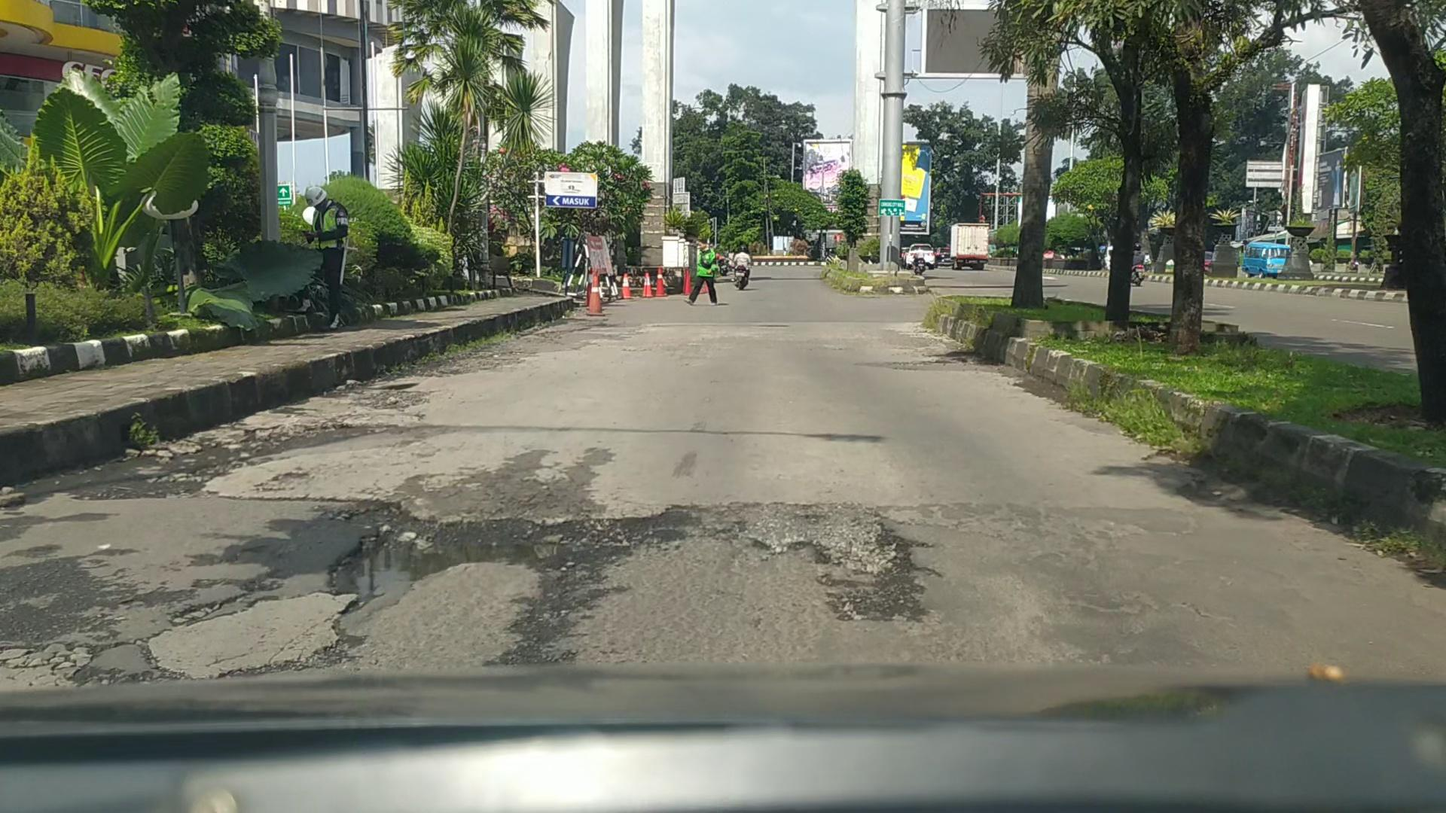pothole: (322, 497, 693, 618), (5, 423, 391, 509), (735, 502, 919, 620), (215, 616, 368, 677), (170, 593, 257, 626), (360, 389, 433, 412)
